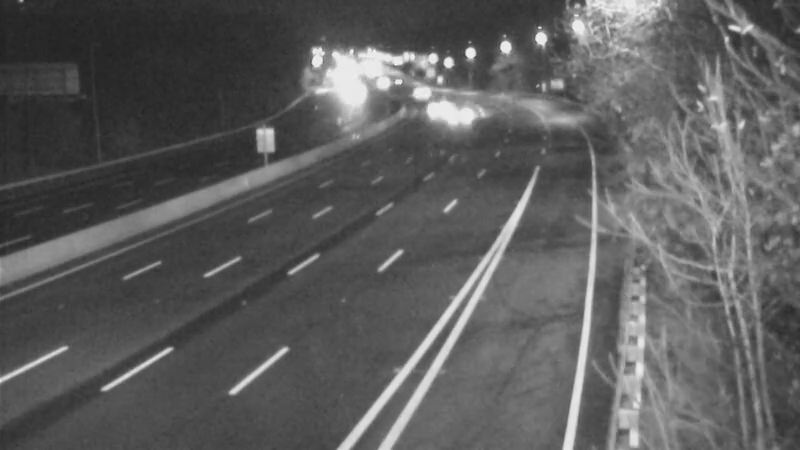vehicle: (357, 63, 407, 113), (395, 68, 445, 118), (412, 79, 462, 129), (437, 89, 487, 139)
